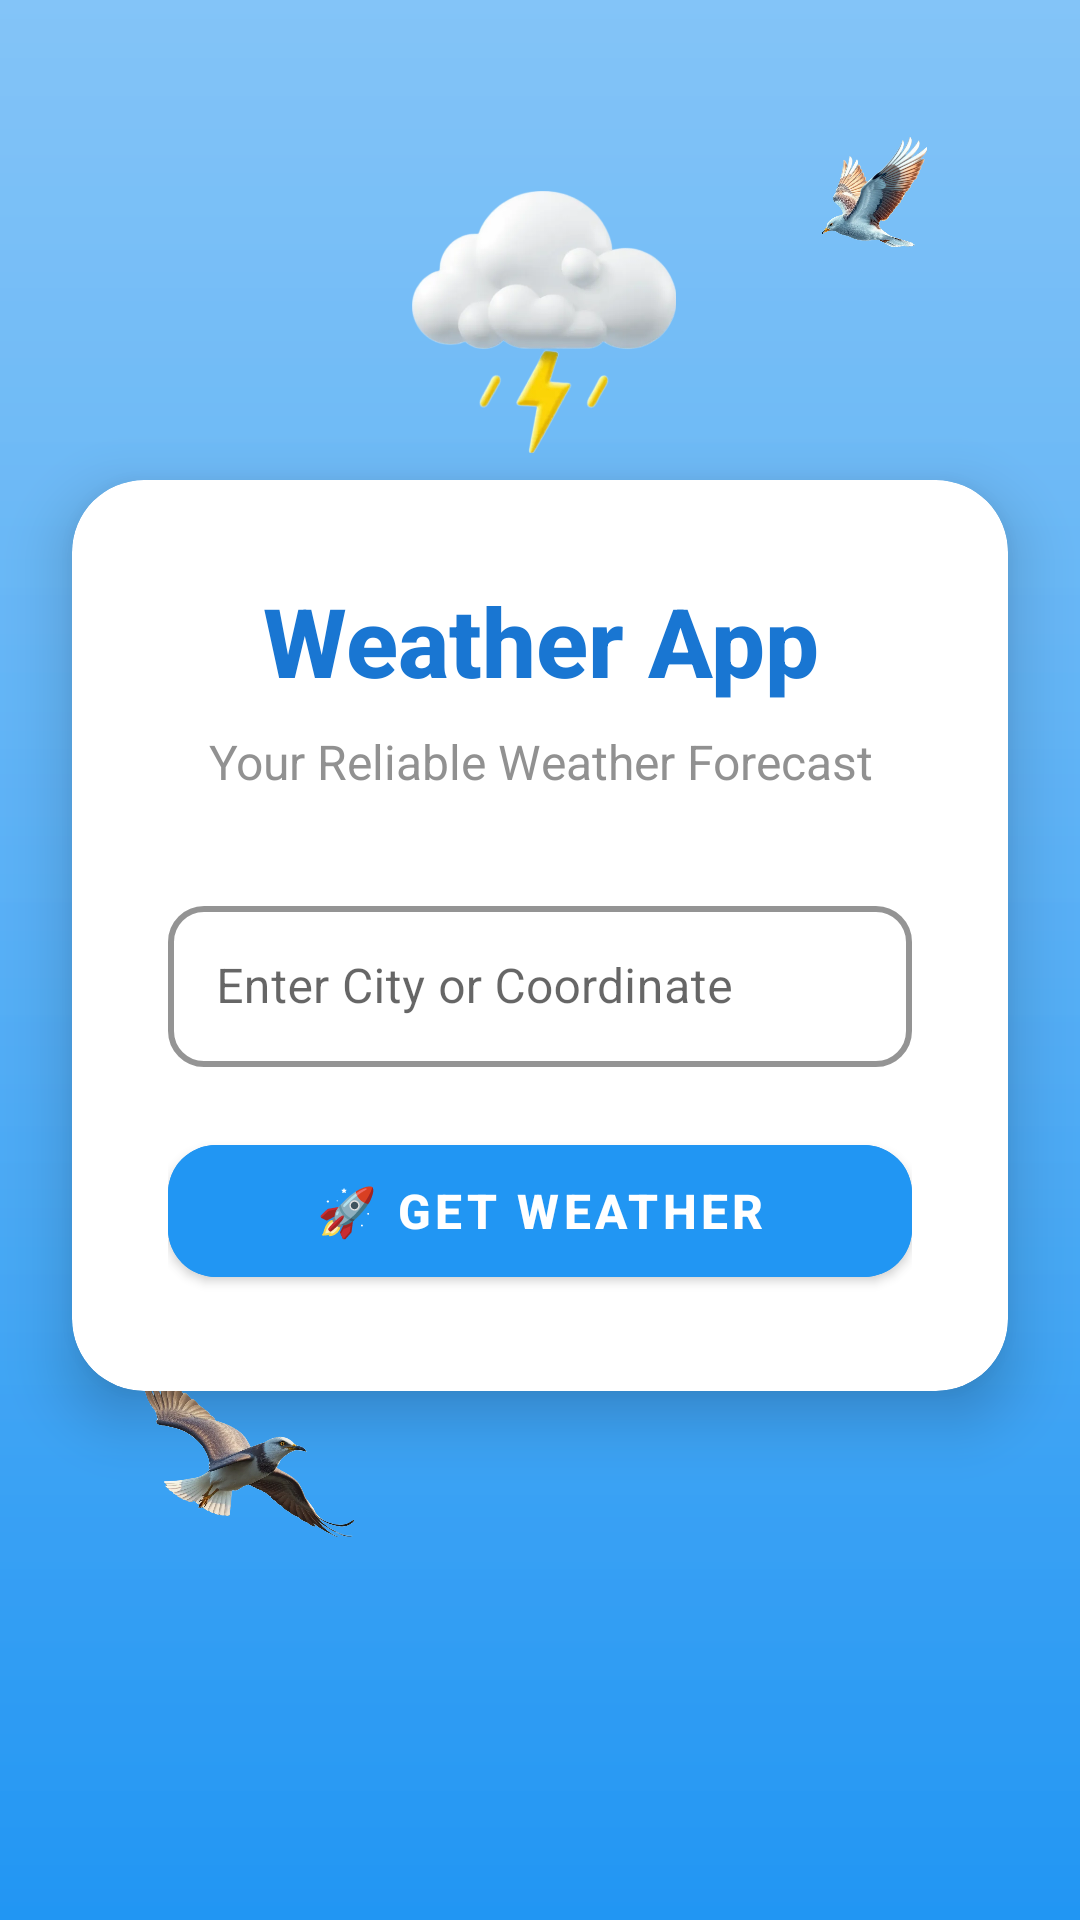

Point at icon controls on the screen. Image size 1080 × 1920, points as (x,y).
bird bottom: (240,1470)
bird top: (874,192)
